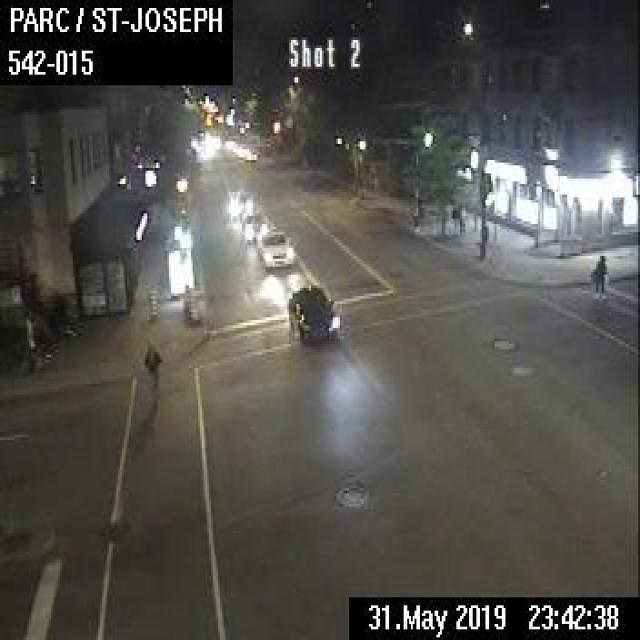construction: (187, 291, 197, 321), (148, 288, 156, 317), (182, 282, 188, 312)
pedestrian: (143, 337, 161, 398), (589, 253, 606, 296)
vehicle: (286, 282, 338, 338), (256, 226, 292, 266), (242, 211, 268, 241), (228, 189, 252, 217)
